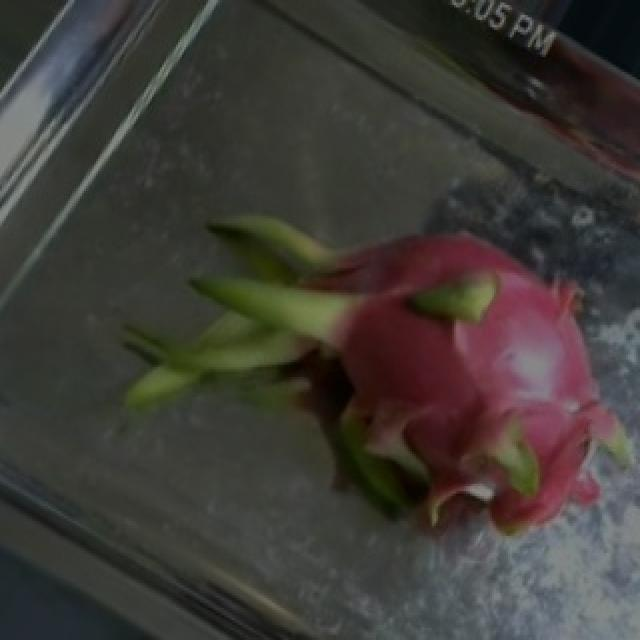fruit: (208, 139, 636, 600)
